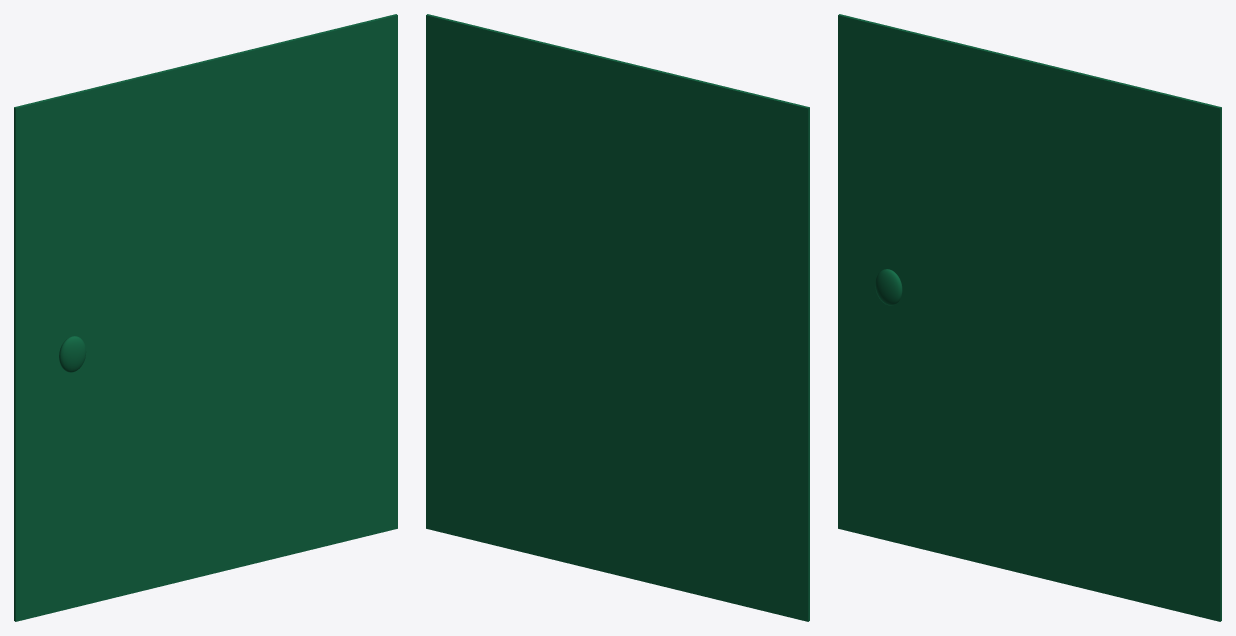
File: puertaIzqBuro.OBJ
The picture shows the model from 3 angles, left to right: view 1: azimuth 30°, elevation 25°; view 2: azimuth 150°, elevation 25°; view 3: azimuth 330°, elevation 25°; orthographic projection.
Visible parts, largest first — view 1: pCube10; view 2: pCube10; view 3: pCube10.
Part boxes in pixels (x1,y1,x2,y2): pCube10: [14, 14, 397, 621]; pCube10: [426, 14, 809, 621]; pCube10: [838, 14, 1221, 621].
Bounding box in the file's own units: 1.85 × 2.38 × 0.0658.
Materials: 1 (1 with a texture image).
